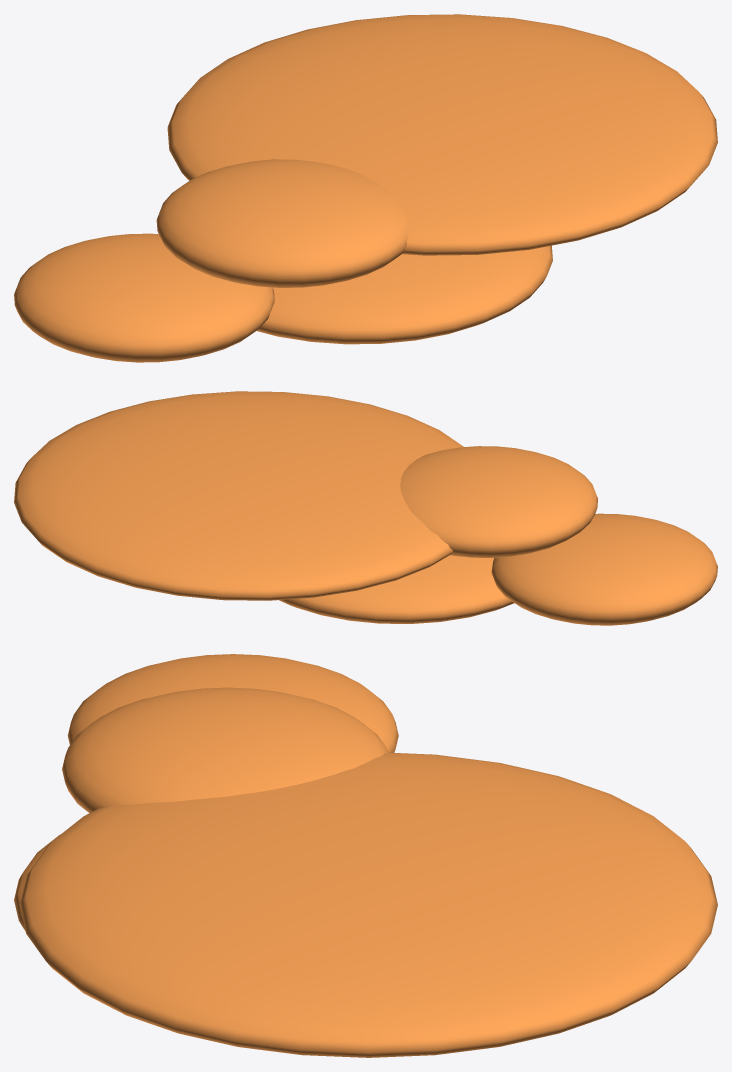
Rendered from Nubes.fbx.
The picture shows the model from 3 angles, top to bottom: view 1: azimuth 30°, elevation 25°; view 2: azimuth 150°, elevation 25°; view 3: azimuth 270°, elevation 25°; orthographic projection. The views are drawn at different scales.
Visible parts, largest first — view 1: Sphere002; view 2: Sphere002; view 3: Sphere002.
Part boxes in pixels (bbox=[...]): Sphere002: bbox=[14, 14, 717, 362]; Sphere002: bbox=[14, 391, 717, 625]; Sphere002: bbox=[14, 654, 717, 1057].
Size of the model in its own units: 560 by 98.15 by 383.
